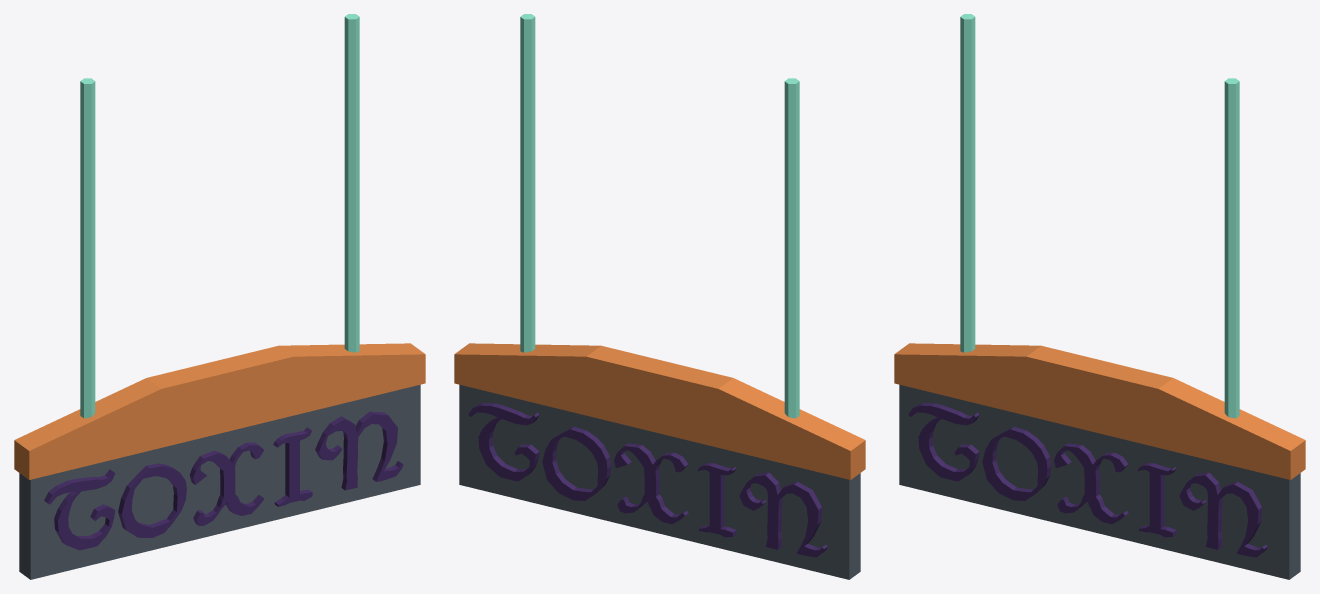
File: StoreSigns.fbx_Toxin.fbx
3 views of the same model, side by side, from view 1: azimuth 30°, elevation 25°; view 2: azimuth 150°, elevation 25°; view 3: azimuth 330°, elevation 25° (orthographic).
Visible parts, largest first — view 1: Toxin; view 2: Toxin; view 3: Toxin.
Boxes of the visible parts, <box> form: Toxin: <box>14,14,425,579</box>; Toxin: <box>454,14,865,579</box>; Toxin: <box>894,14,1305,579</box>.
Size of the model in its own units: 52 by 610 by 705.
